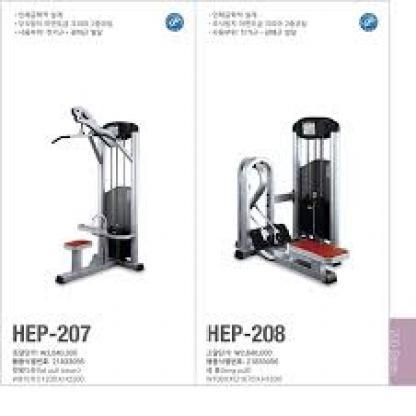Seated Cable Rows: (220, 102, 374, 290)
